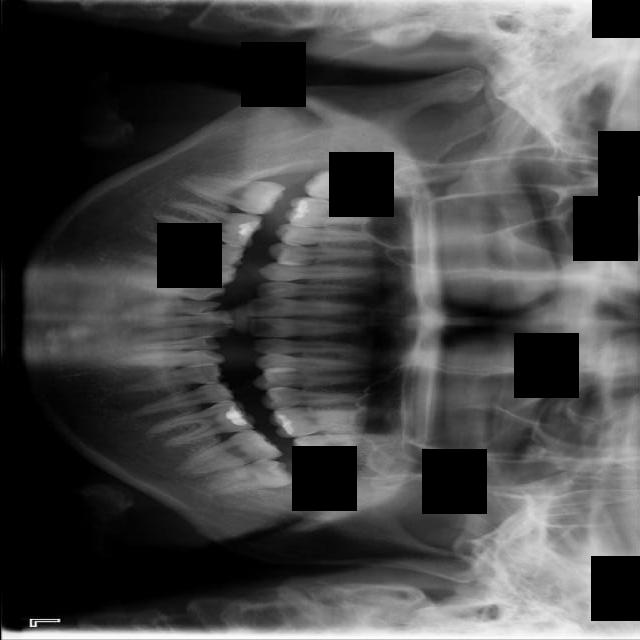52: (212, 200, 267, 256), (266, 399, 320, 444), (203, 398, 255, 436), (284, 194, 335, 230)
73: (47, 594, 55, 604)
Blue Sky Bio Implant: (290, 432, 399, 465)
Caries: (301, 168, 419, 205)
Implant: (177, 424, 284, 477), (176, 172, 286, 218)
Keystone Dental Implant: (202, 454, 298, 500)
